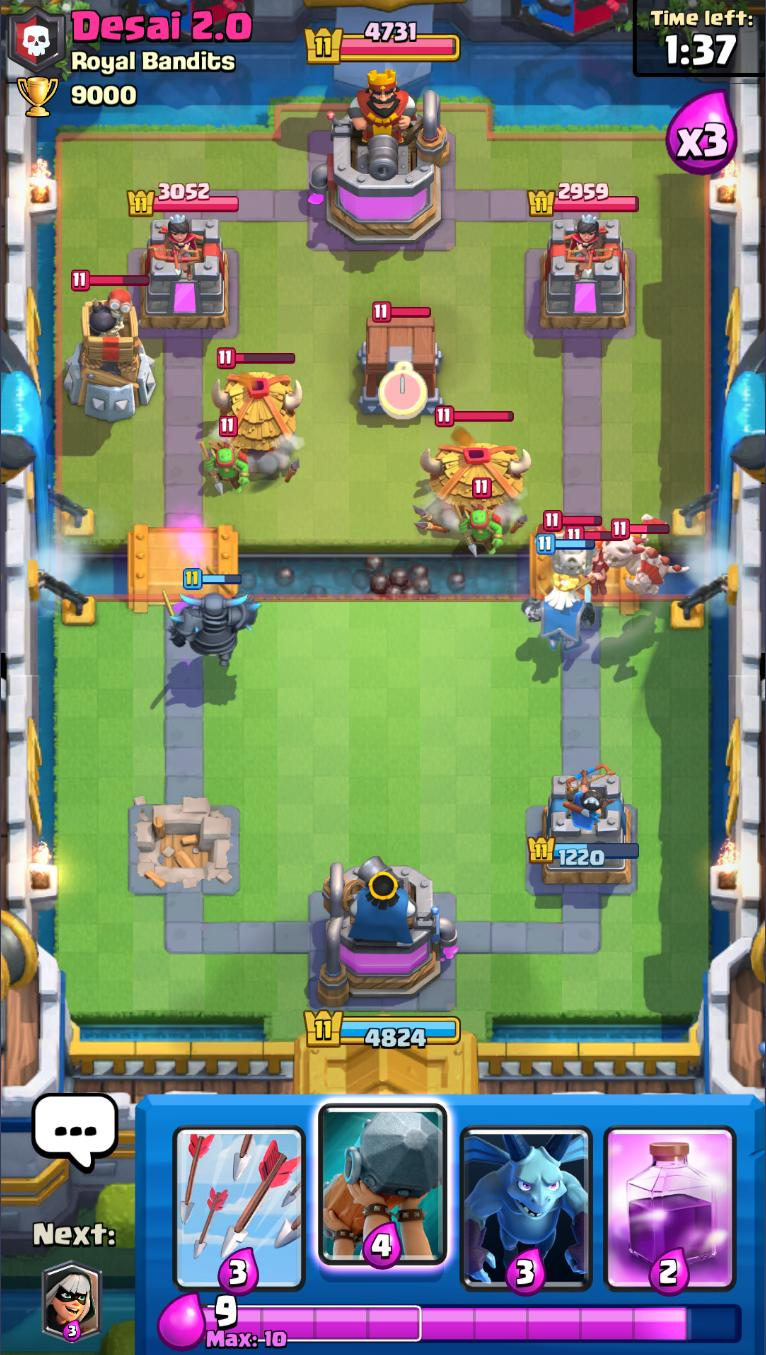ArrowDeck: (165, 1096, 307, 1295)
BanditNext: (43, 1263, 103, 1344)
BattleRamDeck: (311, 1097, 454, 1295)
BombTower: (61, 268, 156, 422)
Elixir: (202, 1295, 745, 1352)
EnemyTower: (137, 214, 231, 333), (538, 214, 632, 331)
GoblinCage: (356, 302, 448, 416)
GoblinHut: (419, 401, 524, 544), (203, 347, 310, 481)
KingTower: (309, 80, 454, 248)
KingTowerHP: (304, 27, 462, 65)
MinionsDeck: (454, 1097, 600, 1294)
MyKingHP: (302, 1006, 463, 1051)
MyKingTower: (318, 855, 460, 1009)
MyPekka: (159, 564, 262, 671)
MyPrincessTower: (526, 768, 642, 889)
MyPrincessTowerBrocken: (126, 794, 242, 899)
MyPrincessTowerHP: (527, 835, 642, 867)
MyRoyaleGhost: (519, 537, 596, 649)
PrincessTower: (549, 214, 604, 275), (152, 214, 202, 273)
RageDeck: (600, 1097, 744, 1294)
SkeletonDragon: (603, 512, 691, 601), (535, 510, 599, 578)
SpearGoblin: (201, 415, 255, 495), (454, 477, 508, 557)
TowerPrincessHP: (127, 180, 241, 217), (527, 181, 640, 216)
Valkyrie: (566, 526, 608, 594)
